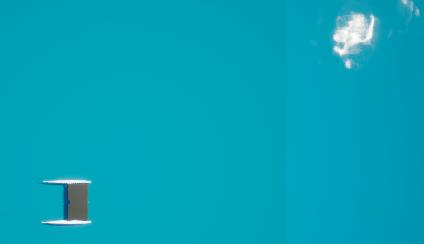boat: (38, 175, 94, 231)
drone: (68, 185, 88, 220)
land_base: (318, 0, 424, 78)
